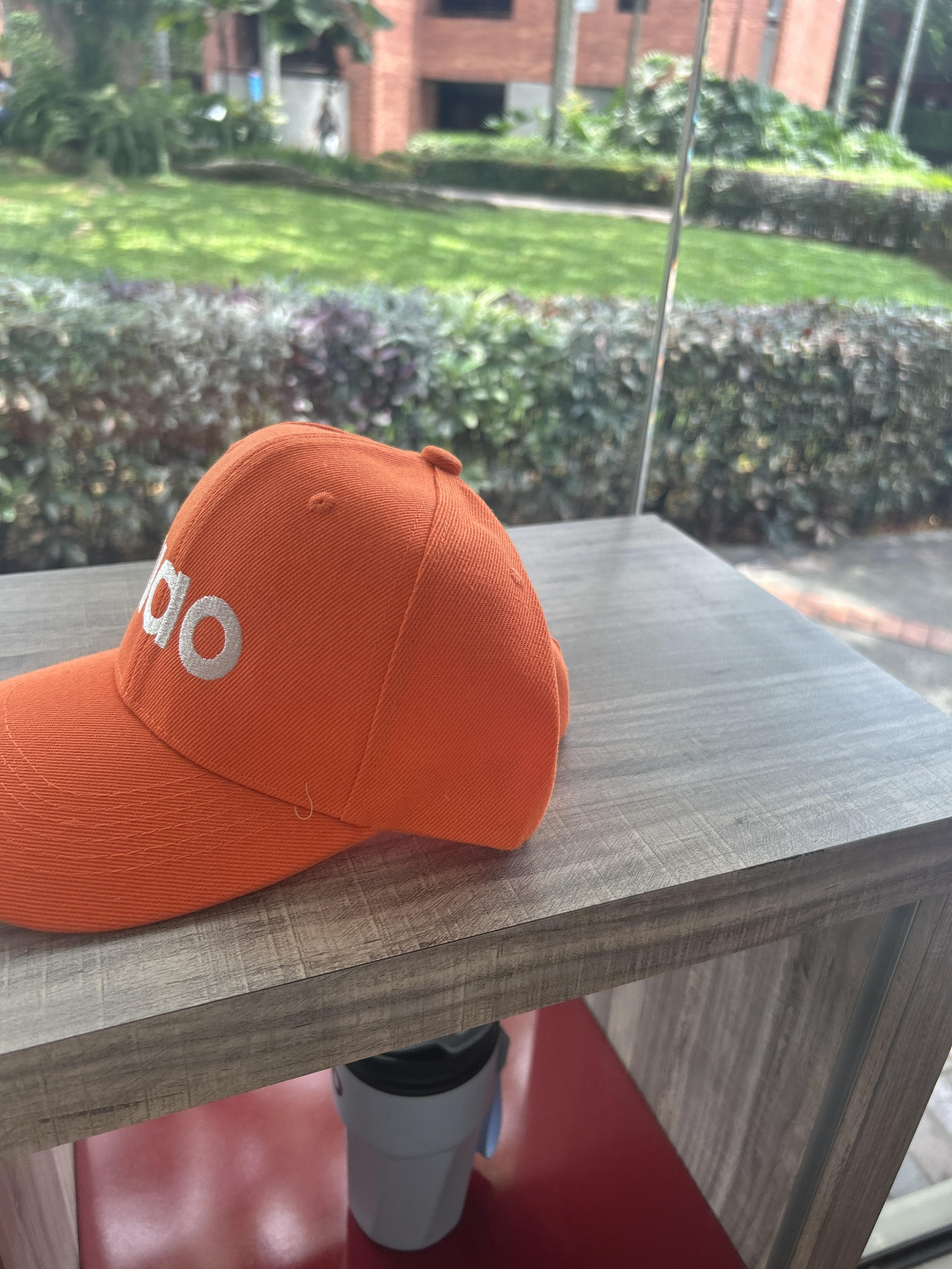gorra: (0, 423, 568, 932)
